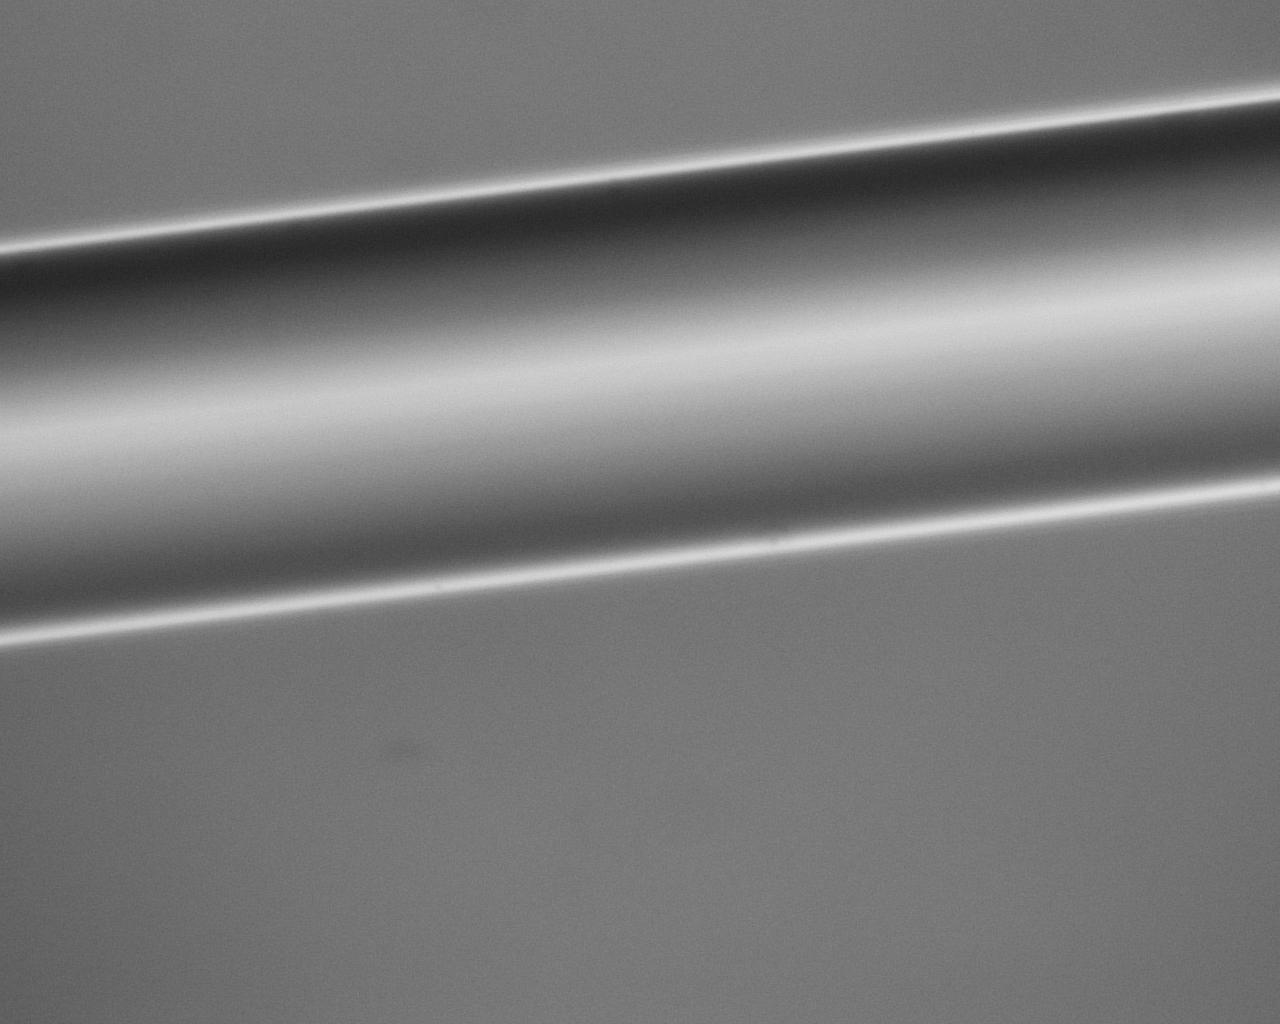fiber: (0, 97, 1280, 640)
